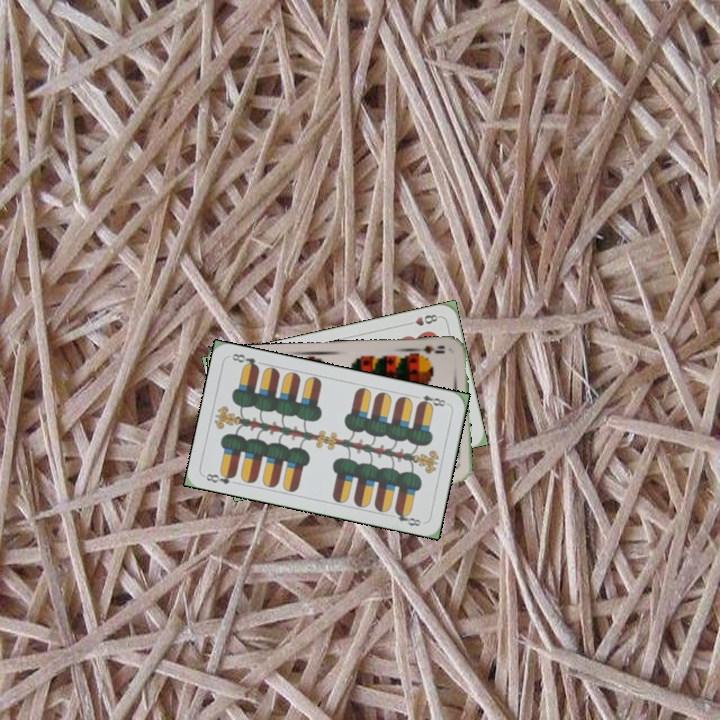E8: (414, 391, 451, 410), (202, 468, 239, 487)
H8: (402, 310, 443, 328)
S9: (410, 341, 447, 360)
